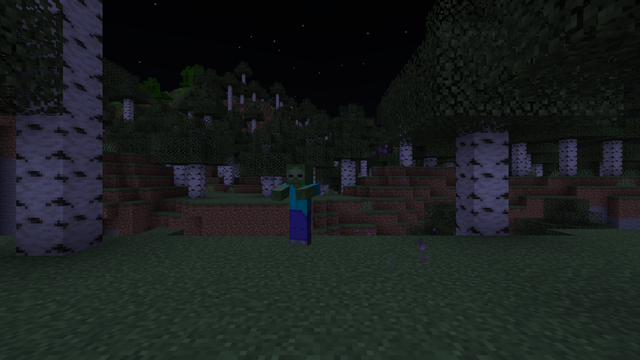zombies: (286, 166, 311, 246)
